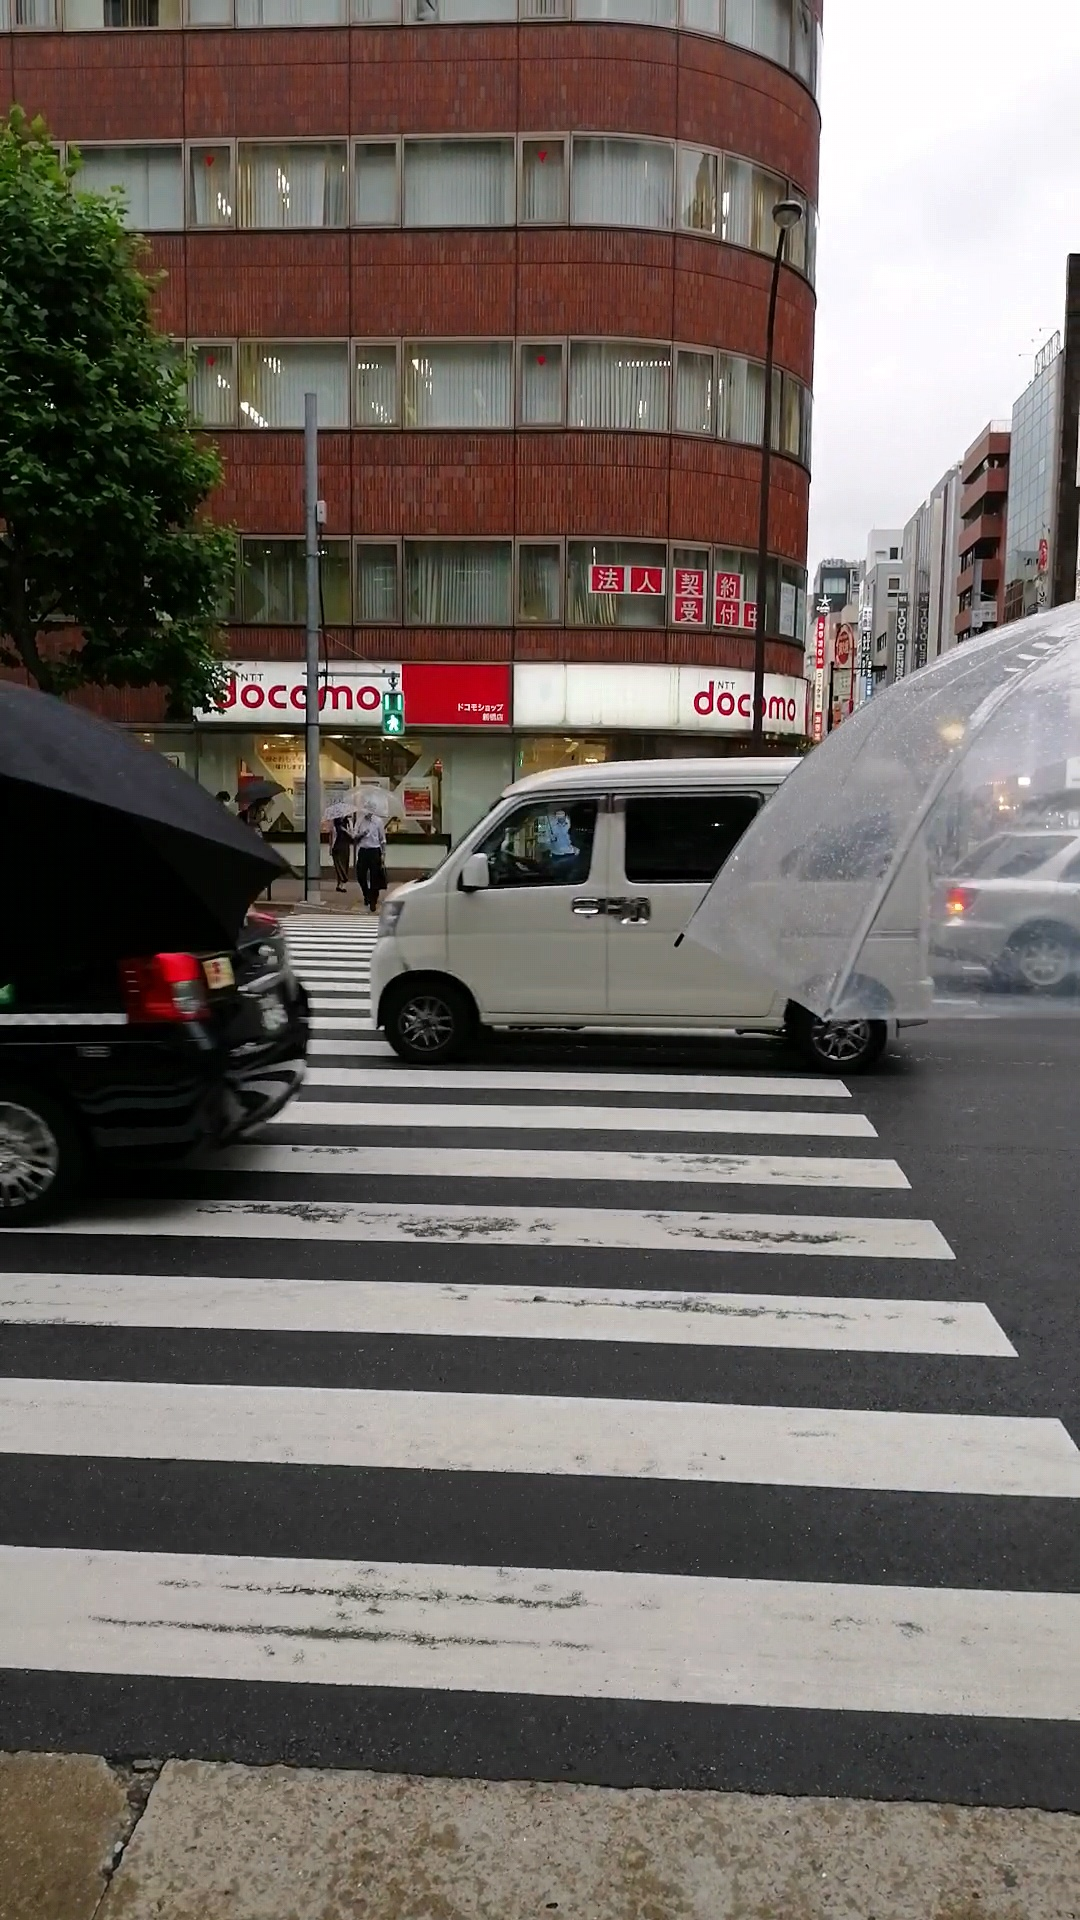green: (381, 688, 405, 736)
